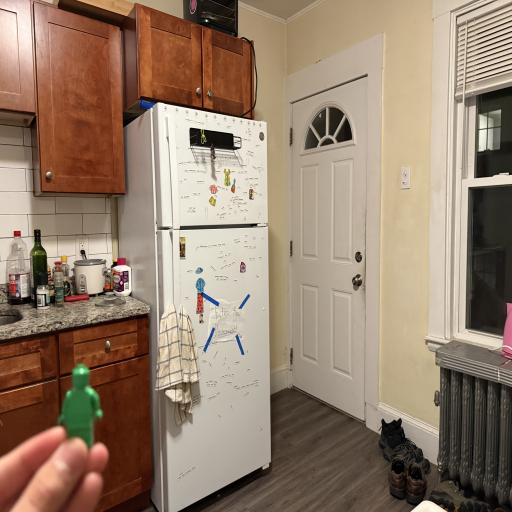Minifig: (58, 363, 103, 448)
